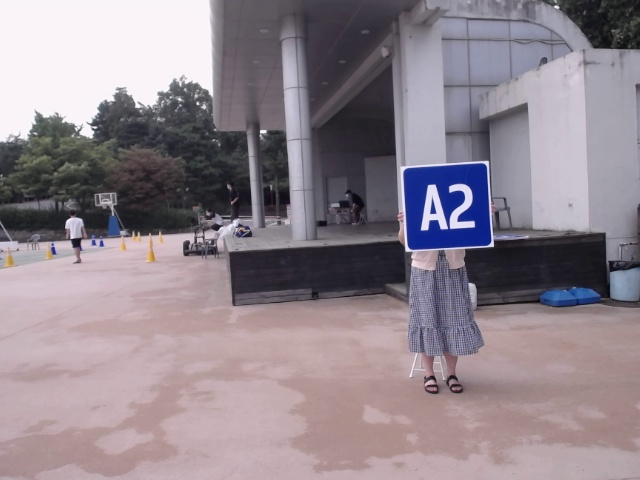delivery_a2: (402, 162, 493, 252)
